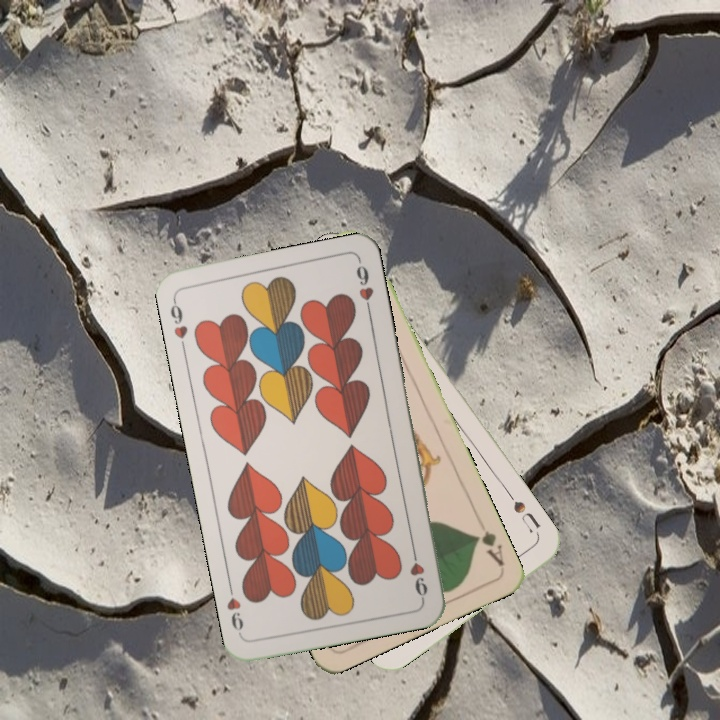GA: (469, 526, 507, 569)
H9: (406, 543, 430, 602), (166, 294, 191, 341)
SU: (509, 496, 544, 536)
